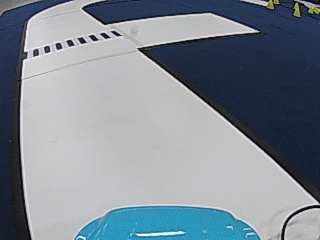CrossWalk: (28, 29, 120, 57)
